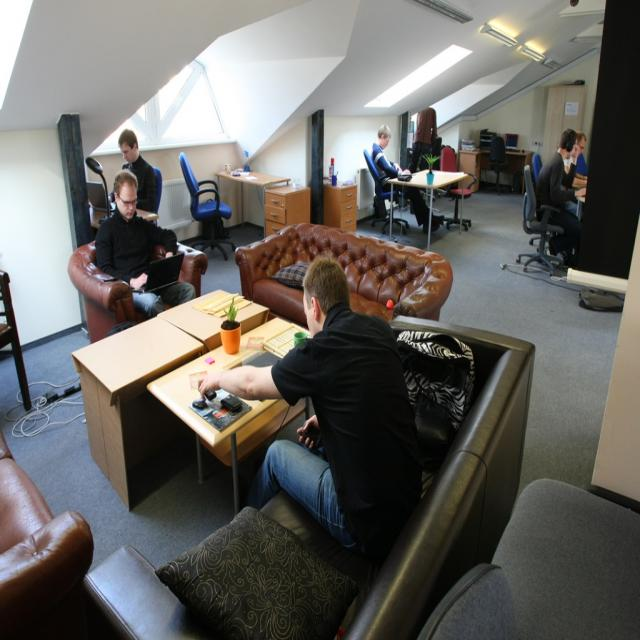chair: (67, 238, 206, 342), (507, 160, 564, 276), (180, 150, 234, 259), (0, 269, 33, 412), (363, 149, 409, 235), (437, 147, 478, 233)
desk: (97, 288, 302, 503)
person: (195, 256, 423, 548), (92, 169, 208, 328), (536, 128, 584, 266), (371, 124, 414, 216), (117, 127, 161, 215), (573, 128, 588, 178)
